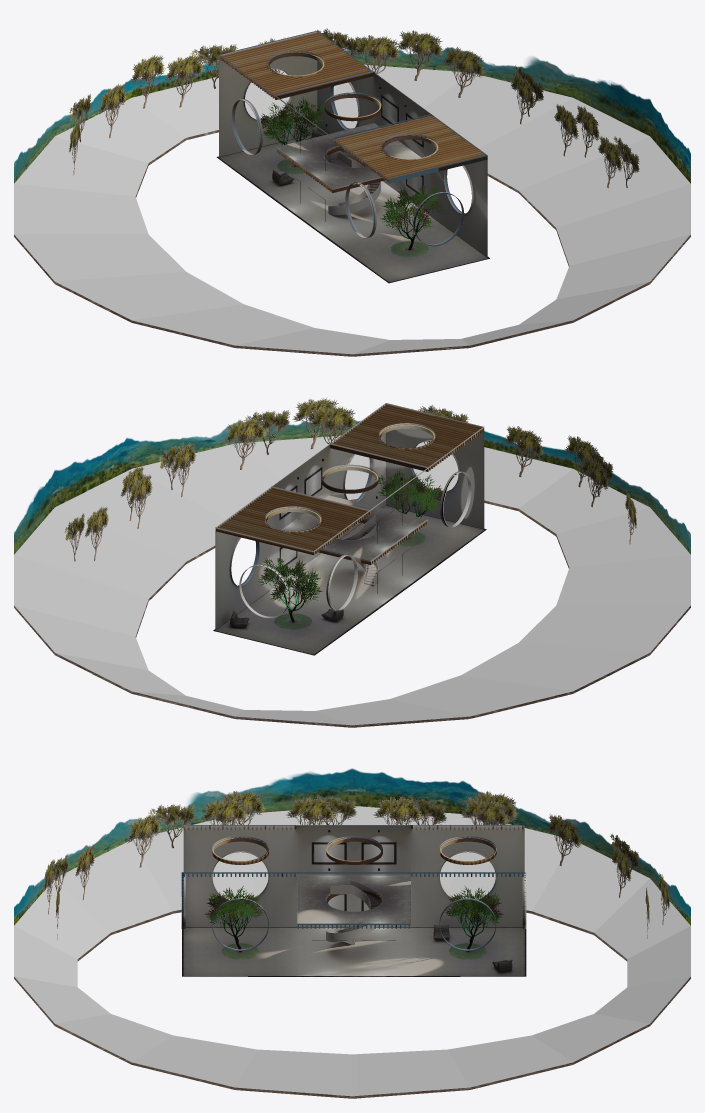
3 views of the same model, one above another, from view 1: azimuth 30°, elevation 25°; view 2: azimuth 150°, elevation 25°; view 3: azimuth 270°, elevation 25° (orthographic).
Parts seen in each view (by area): view 1: enviroment, floor_ceiling, walls, wood_ceiling, windows, Tree_007, Tree_005, stairs, paintings, grass_tree; view 2: enviroment, floor_ceiling, walls, wood_ceiling, windows, Tree_005, Tree_007, paintings, grass_tree, stairs; view 3: enviroment, walls, floor_ceiling, wood_ceiling, paintings, windows, Tree_007, Tree_005, stairs, grass_tree.
Part boxes in pixels (bbox=[...]): enviroment: bbox=[14, 28, 690, 356]; floor_ceiling: bbox=[216, 51, 489, 283]; walls: bbox=[219, 30, 487, 257]; wood_ceiling: bbox=[219, 32, 487, 193]; windows: bbox=[231, 68, 473, 246]; Tree_007: bbox=[260, 96, 328, 140]; Tree_005: bbox=[380, 185, 445, 231]; stairs: bbox=[325, 151, 380, 215]; paintings: bbox=[283, 95, 423, 221]; grass_tree: bbox=[277, 159, 428, 257]; enviroment: bbox=[14, 397, 690, 727]; floor_ceiling: bbox=[213, 423, 486, 655]; walls: bbox=[215, 403, 484, 629]; wood_ceiling: bbox=[216, 404, 484, 564]; windows: bbox=[229, 440, 471, 618]; Tree_005: bbox=[375, 469, 442, 512]; Tree_007: bbox=[257, 557, 322, 603]; paintings: bbox=[279, 467, 419, 593]; grass_tree: bbox=[274, 531, 425, 629]; stairs: bbox=[343, 515, 378, 586]; enviroment: bbox=[14, 768, 690, 1098]; walls: bbox=[183, 825, 524, 927]; floor_ceiling: bbox=[182, 836, 526, 976]; wood_ceiling: bbox=[183, 837, 523, 928]; paintings: bbox=[312, 842, 396, 940]; windows: bbox=[181, 851, 526, 951]; Tree_007: bbox=[444, 886, 503, 925]; Tree_005: bbox=[204, 886, 264, 925]; stairs: bbox=[326, 880, 380, 944]; grass_tree: bbox=[221, 943, 486, 959].
Size of what is drawn, in the model's own units: 2858 by 589 by 2814.
